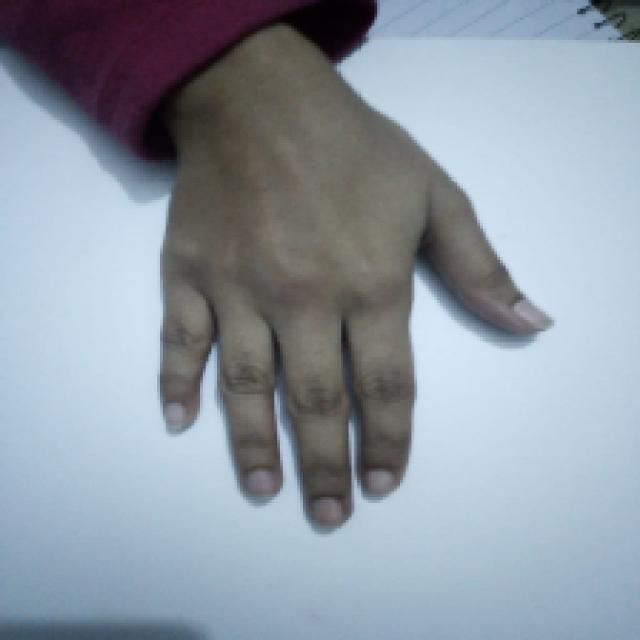Nail: (312, 497, 345, 535), (512, 299, 552, 330), (242, 470, 276, 506), (364, 470, 396, 501), (164, 402, 188, 436)
